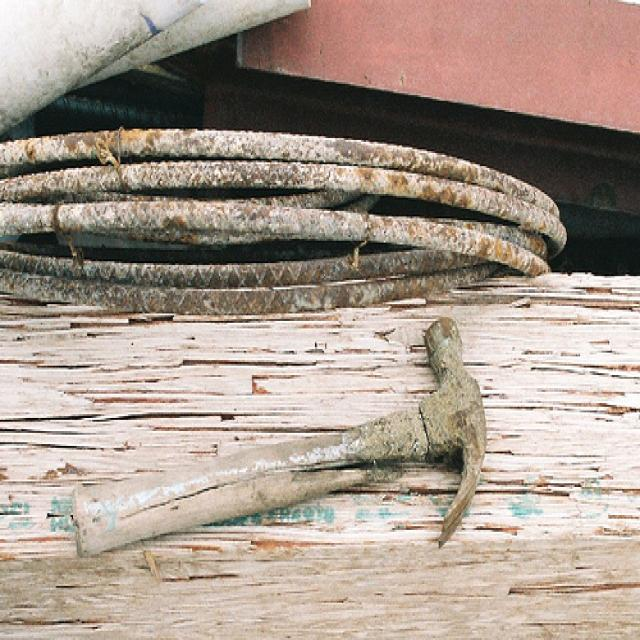hammer: (60, 306, 508, 557)
